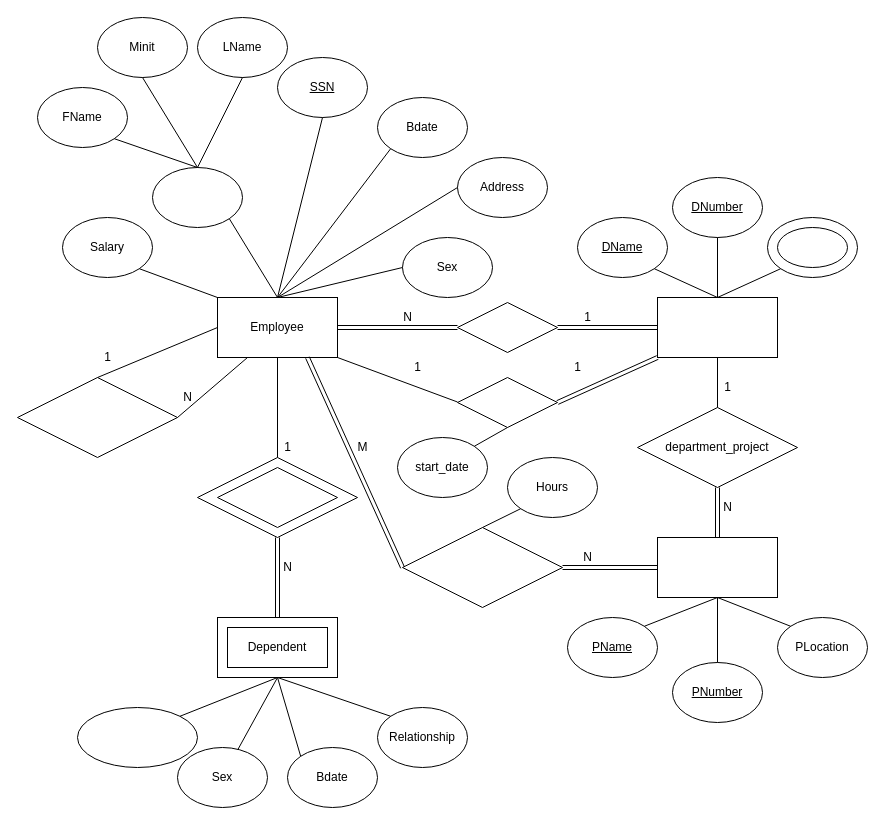
This 885x825 diagram has some shape labels left out. The shapes that lost their labels are listed below. From the top down, each one's centre as x and y in pixels, then its label:
At point 197,197: "Name".
At point 812,247: "Location".
At point 507,327: "works_for".
At point 717,327: "Department".
At point 97,417: "supervise".
At point 507,402: "manages".
At point 277,497: "depent_of".
At point 482,567: "works_on".
At point 717,567: "Project".
At point 137,737: "Dependent_name".
